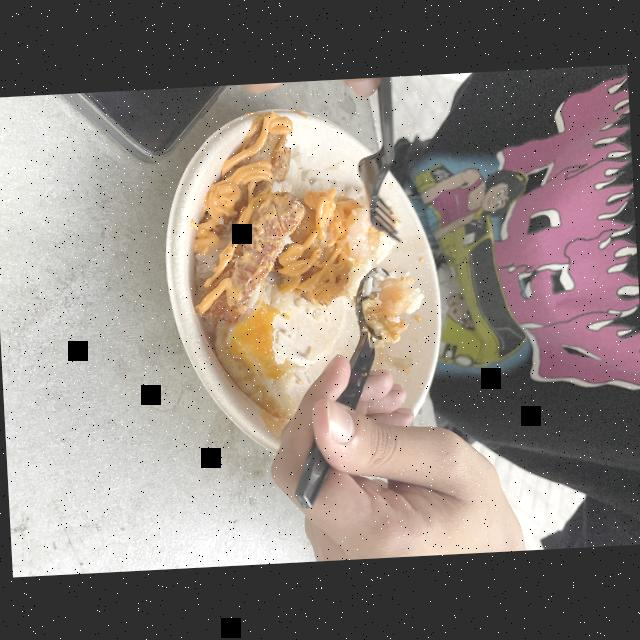cardboard_bowl: (148, 92, 462, 463)
plastic_spoon: (275, 249, 440, 533), (353, 78, 424, 242)
